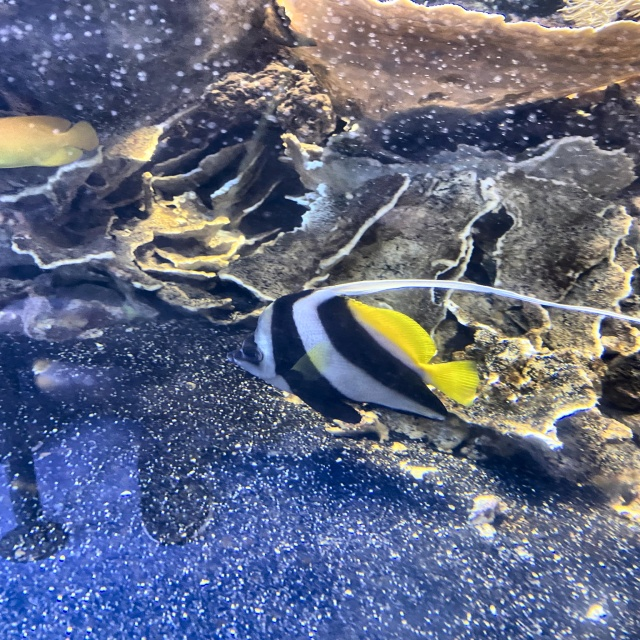fish: (232, 287, 480, 423)
